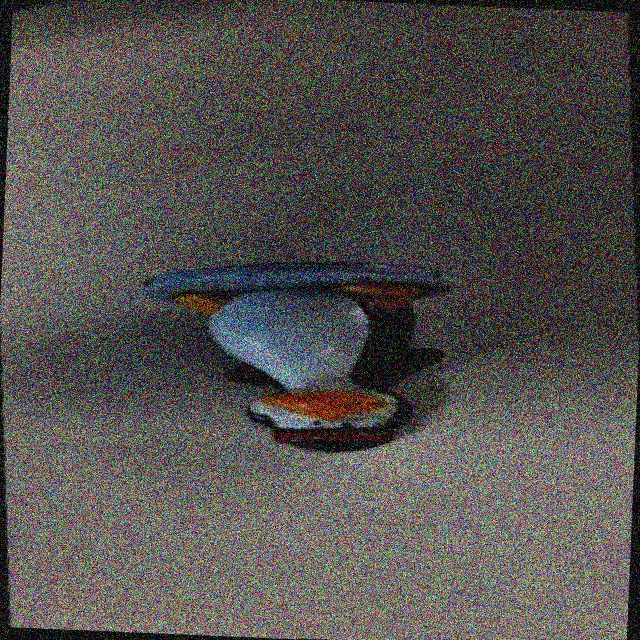Penguin: (129, 247, 478, 467)
